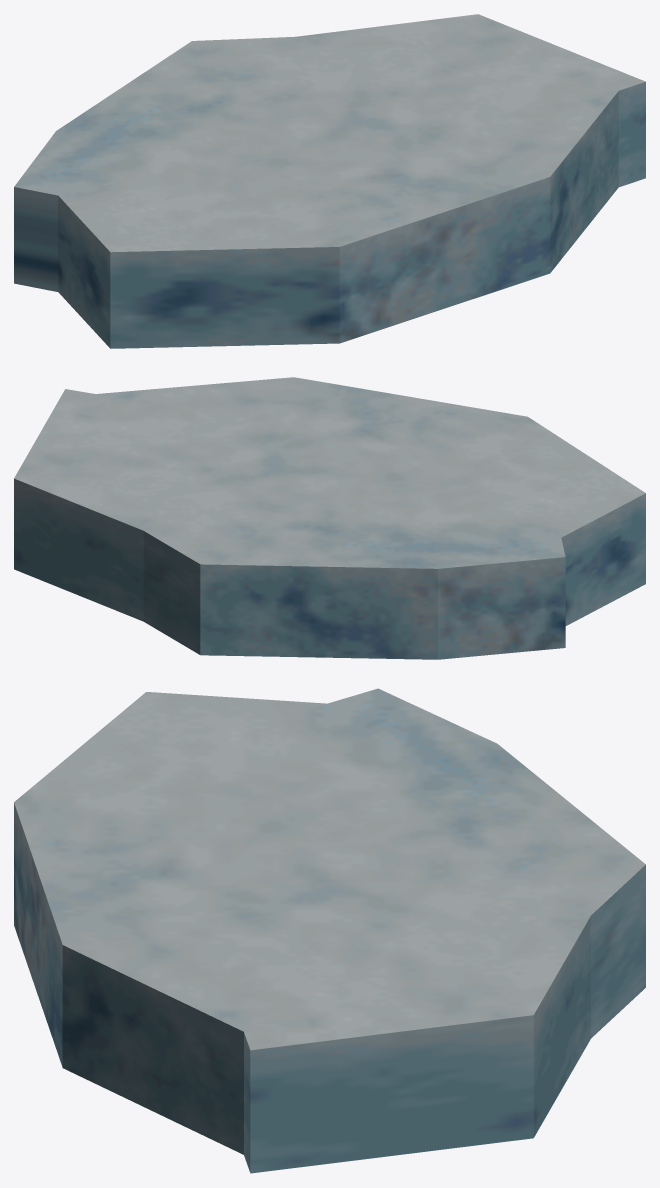
The picture shows the model from 3 angles, top to bottom: view 1: azimuth 30°, elevation 25°; view 2: azimuth 150°, elevation 25°; view 3: azimuth 270°, elevation 25°; orthographic projection. The views are drawn at different scales.
Parts seen in each view (by area): view 1: a08; view 2: a08; view 3: a08.
Boxes of the visible parts, bbox=[...] form: a08: bbox=[14, 14, 645, 348]; a08: bbox=[14, 377, 645, 659]; a08: bbox=[14, 688, 645, 1173].
Size of the model in its own units: 460 by 73.01 by 340.
